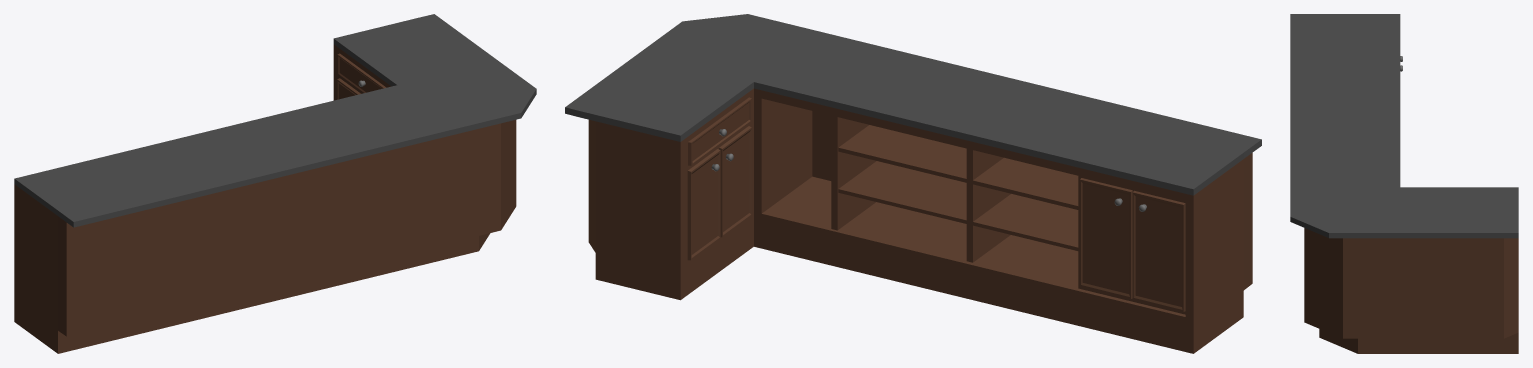
Rendered from bar.fbx.
3 views of the same model, side by side, from view 1: azimuth 30°, elevation 25°; view 2: azimuth 150°, elevation 25°; view 3: azimuth 270°, elevation 25° (orthographic). The views are drawn at different scales.
Visible parts, largest first — view 1: Bar; view 2: Bar; view 3: Bar.
Part boxes in pixels (left/top/right/bottom): Bar: left=14, top=14, right=536, bottom=353; Bar: left=565, top=14, right=1261, bottom=353; Bar: left=1290, top=14, right=1518, bottom=353.
Size of the model in its own units: 332 by 146 by 93.96.
